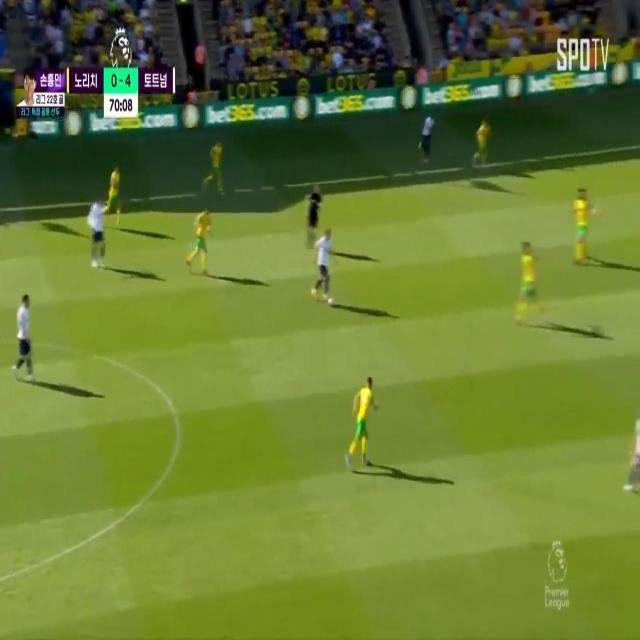ball: (321, 289, 339, 307)
player: (309, 226, 337, 301), (354, 371, 375, 454), (13, 296, 34, 375), (517, 244, 538, 320), (573, 186, 591, 271), (103, 167, 124, 221), (471, 118, 494, 167), (419, 105, 435, 167), (195, 208, 211, 268), (207, 139, 226, 186), (91, 205, 107, 255)
referee: (307, 171, 322, 233)
